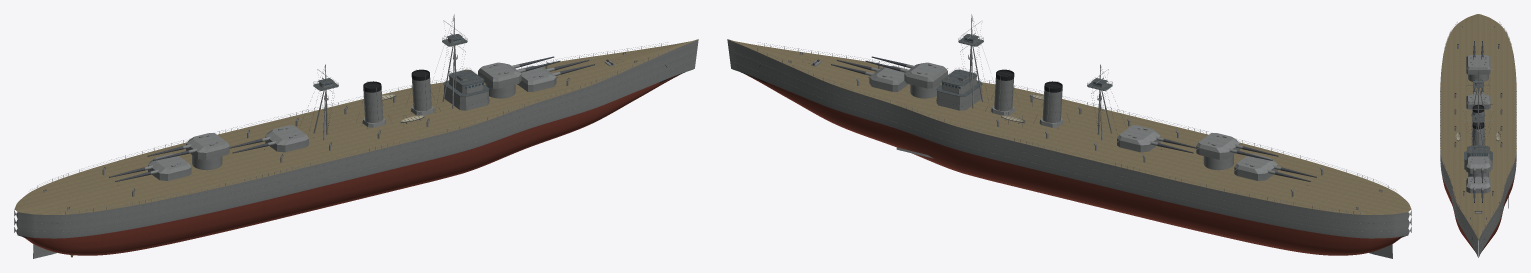
The model's file is kii.glb.
3 renders of one model, left to right at view 1: azimuth 30°, elevation 25°; view 2: azimuth 150°, elevation 25°; view 3: azimuth 270°, elevation 25°, orthographic. The views are drawn at different scales.
Visible parts, largest first — view 1: Kii class (canceled); view 2: Kii class (canceled); view 3: Kii class (canceled).
Boxes of the visible parts, x1,y1,x2,y2 form: Kii class (canceled): (14, 14, 698, 258); Kii class (canceled): (727, 14, 1411, 258); Kii class (canceled): (1440, 14, 1516, 257).
Bounding box in the file's own units: 231 × 46.65 × 32.55.
Materials: 9 (8 with a texture image).
